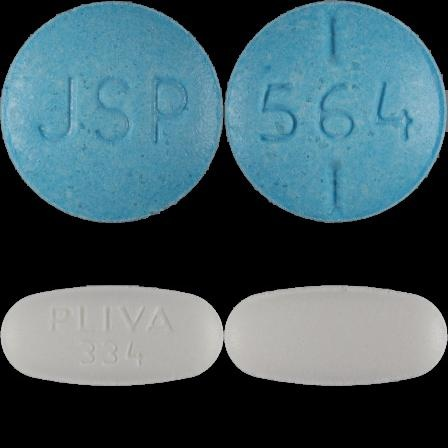10544-264: (0, 0, 224, 224)
